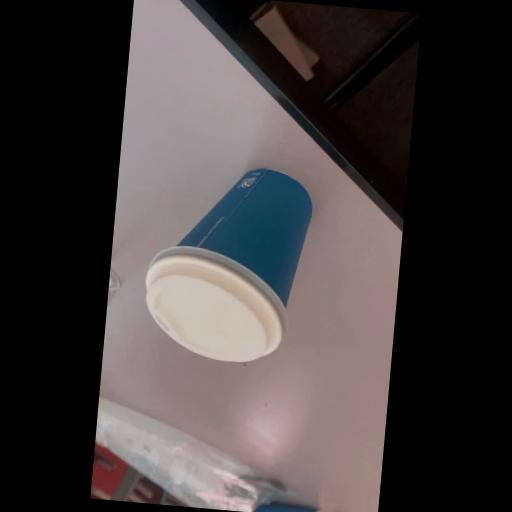lp_paper_cup: (138, 159, 313, 366)
